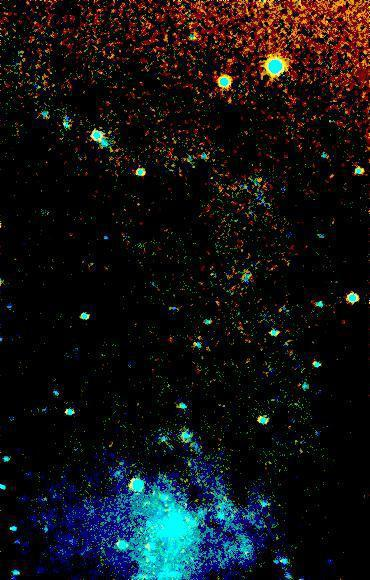star: (215, 86, 245, 116)
